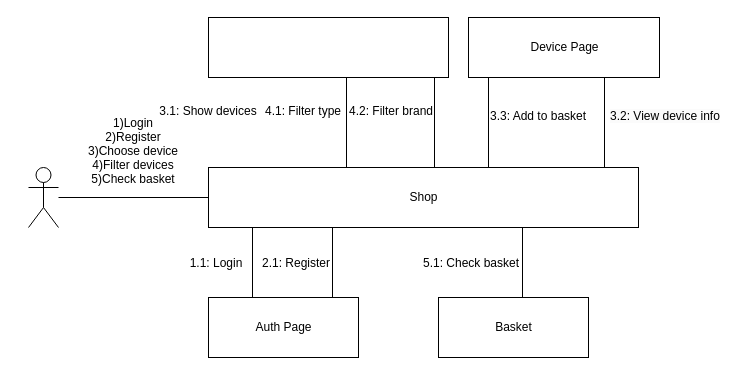
The diagram is 756 pixels wide and 375 high, and some of its shapes have lost their labels. The shapes that lost their labels are listed below. From the top down, each one's centre as x and y in pixels, then its label:
At (328,47): "Main Page".
At (43,197): "Customer".
